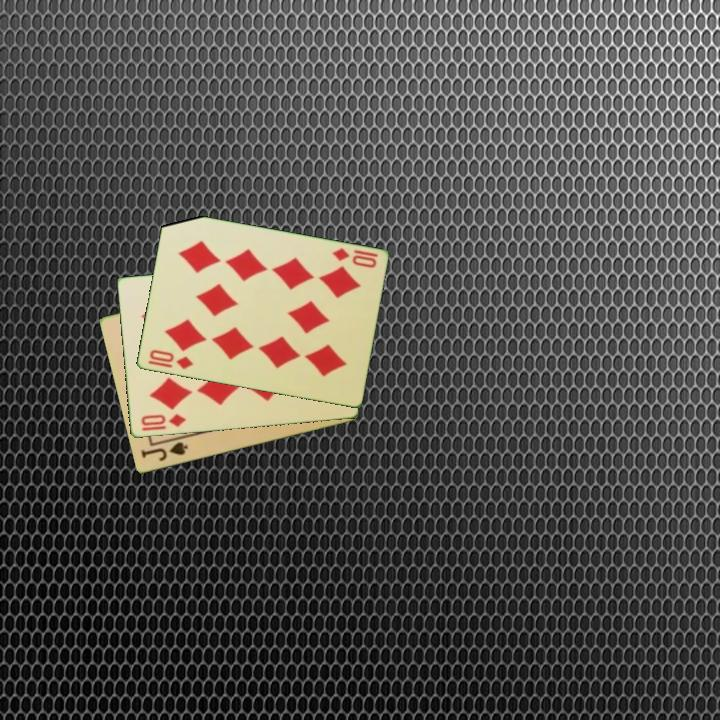10d: (328, 245, 380, 271), (146, 346, 196, 373), (137, 411, 188, 430)
Js: (137, 439, 190, 464)
